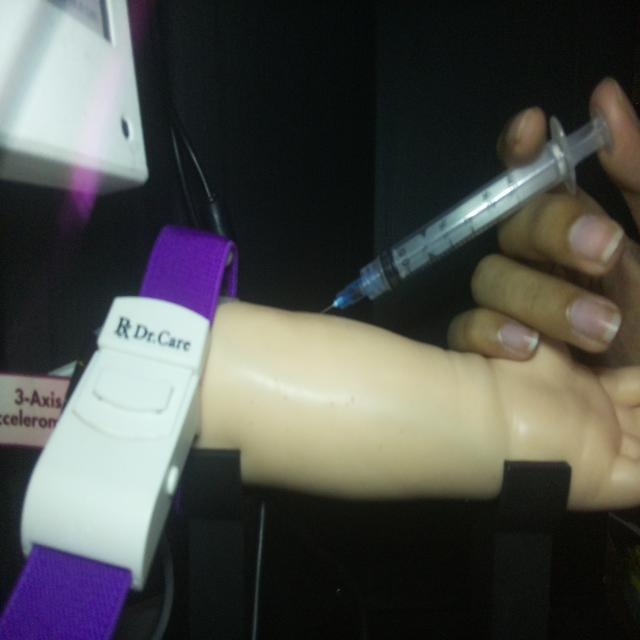24 degrees: (318, 105, 613, 317)
